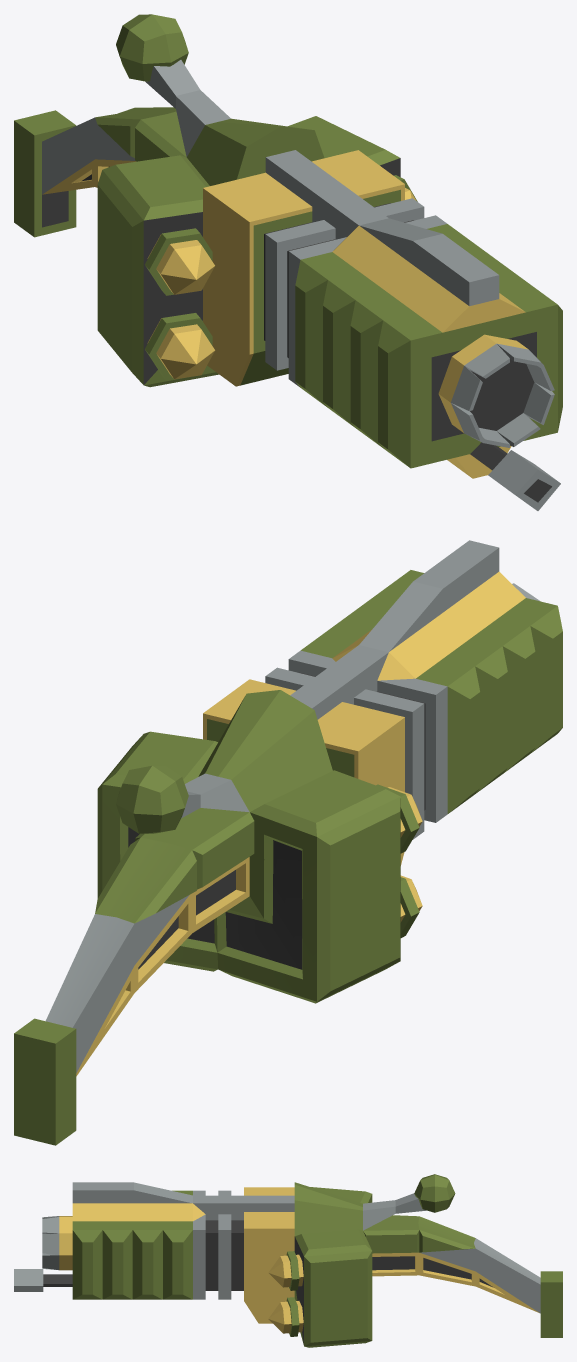
File: Gun-1.fbx
3 renders of one model, top to bottom at view 1: azimuth 30°, elevation 25°; view 2: azimuth 150°, elevation 25°; view 3: azimuth 270°, elevation 25°, orthographic. The views are drawn at different scales.
Parts seen in each view (by area): view 1: Gun_1; view 2: Gun_1; view 3: Gun_1.
Part boxes in pixels (bbox=[...]): Gun_1: bbox=[14, 14, 562, 510]; Gun_1: bbox=[14, 540, 562, 1145]; Gun_1: bbox=[14, 1174, 562, 1347].
Size of the model in its own units: 134 by 137 by 431.
